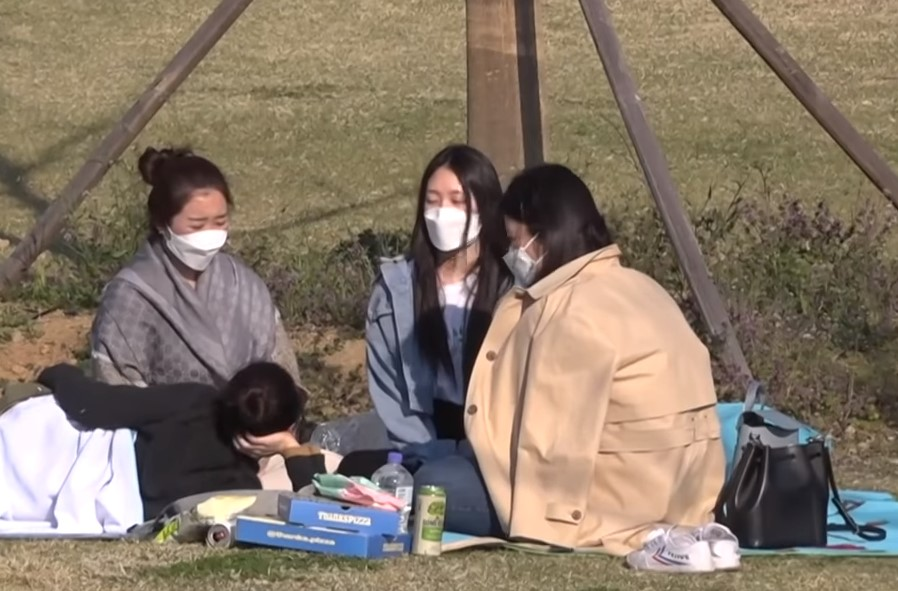face_with_mask: (501, 164, 602, 290), (136, 147, 230, 276), (419, 144, 497, 260)
